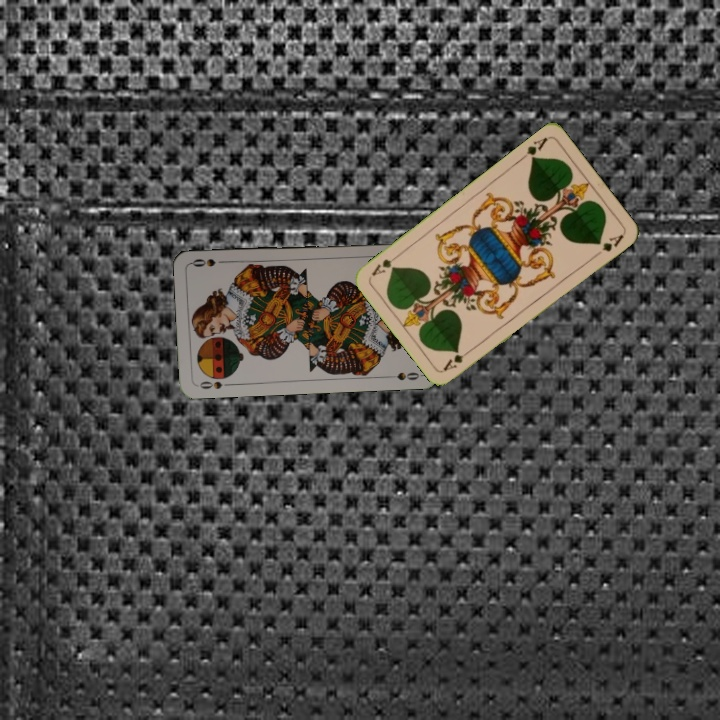GA: (516, 133, 551, 163), (439, 345, 475, 374)
SO: (193, 377, 234, 391)
